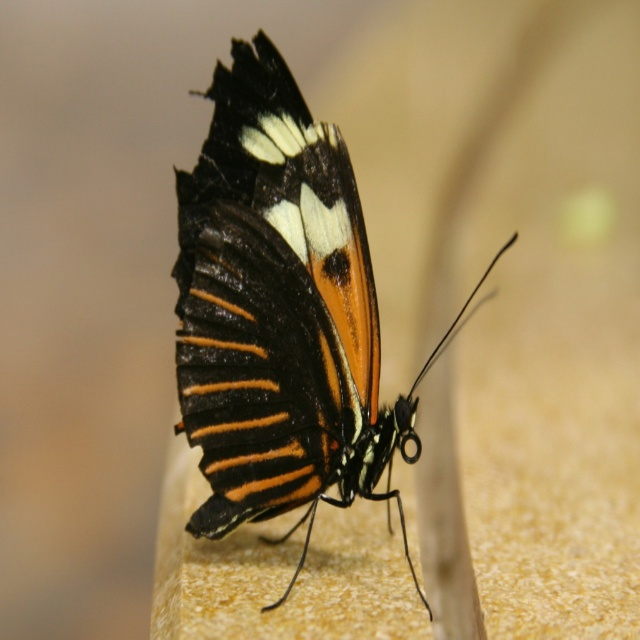Butterfly: (167, 25, 519, 640)
